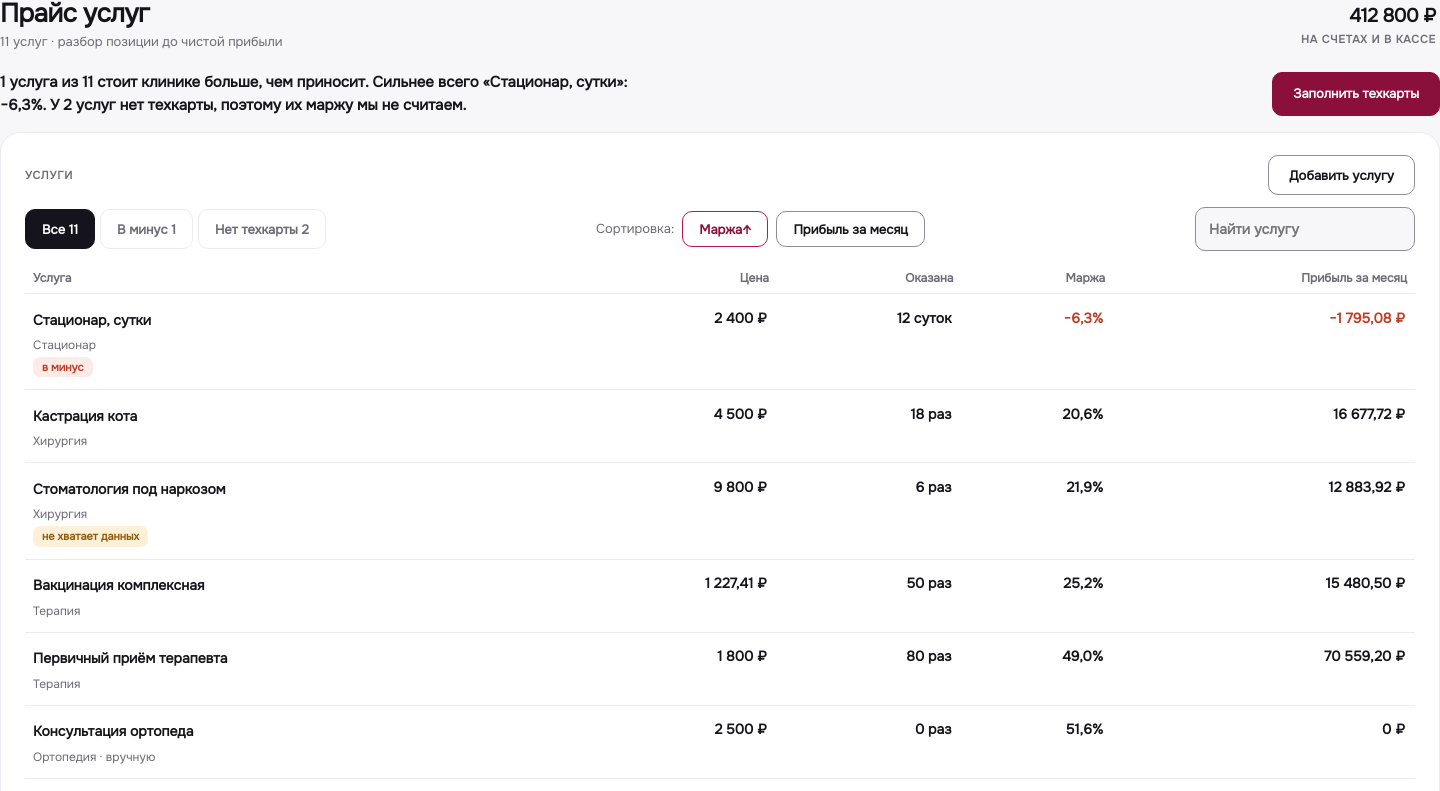
PricePage: a manual service › refuses a duplicate name
Click the button with test id "price-add". click: (1342, 175)
box: [1268,155,1415,195]
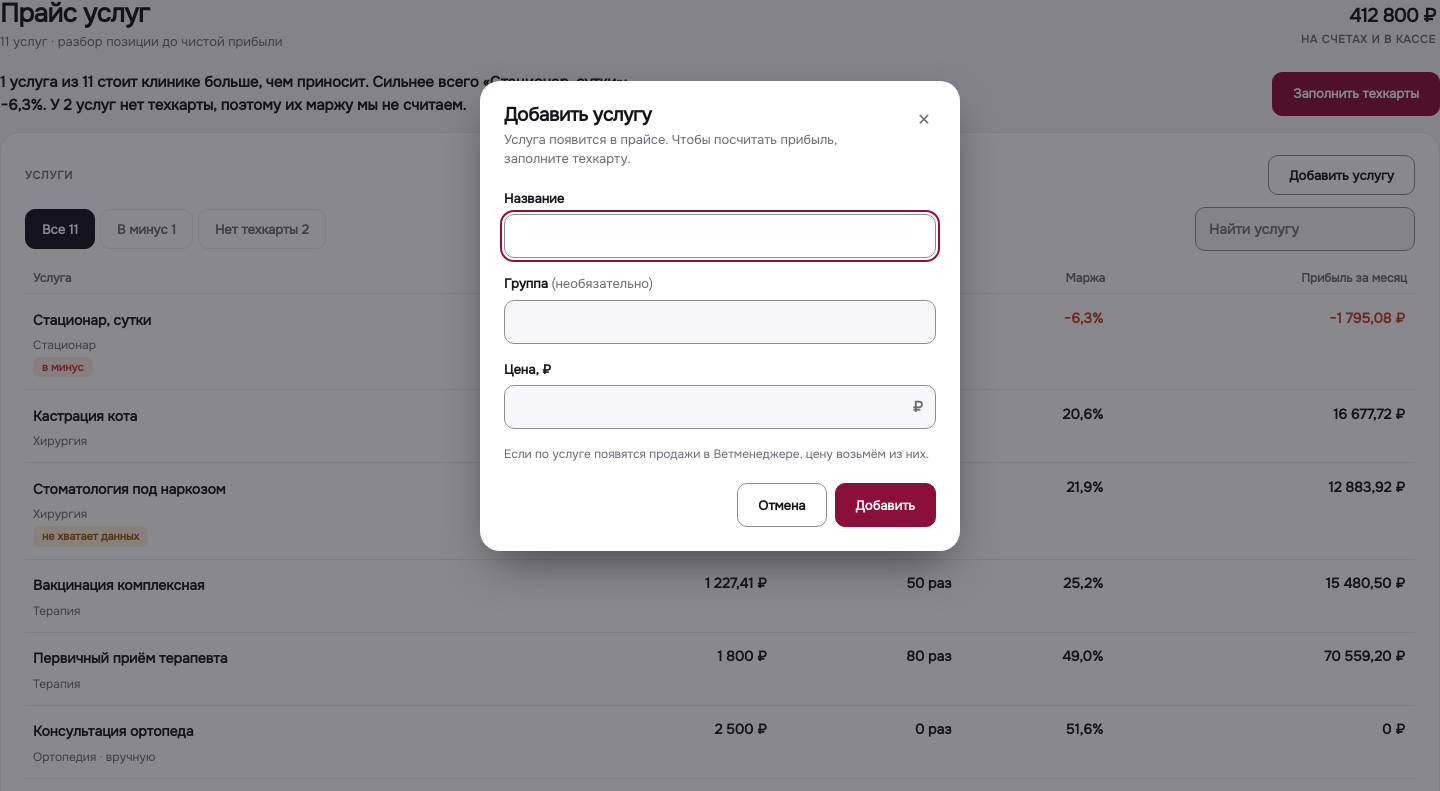
Type "кастрация  КОТА" into the field with test id "price-service-field-name". click: (720, 236)
box: [504,214,936,258]
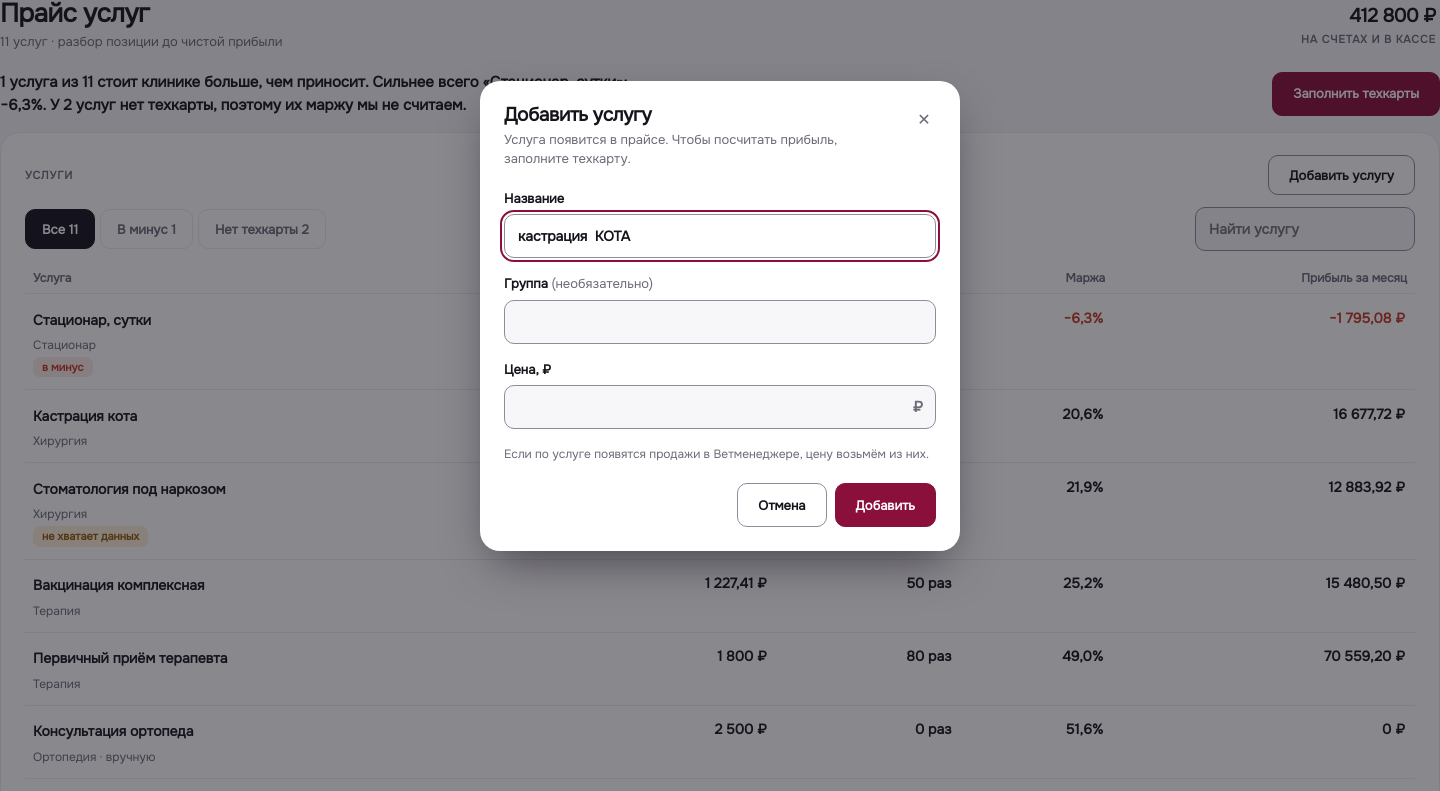
Type "100" into the field with test id "price-service-field-price". click: (720, 407)
box: [504,385,936,429]
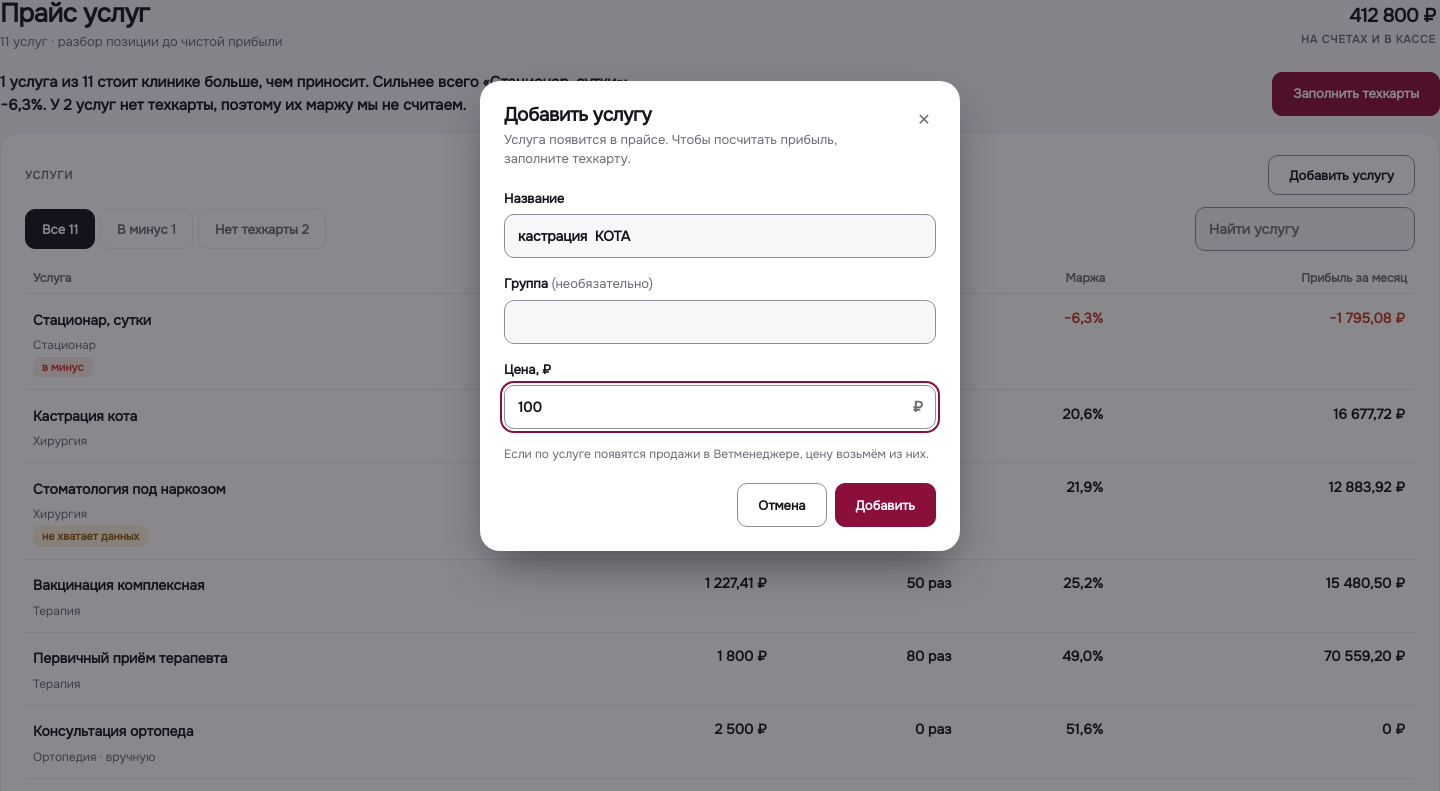
Click the button with test id "price-service-save". click: (885, 505)
box: [835,483,936,527]
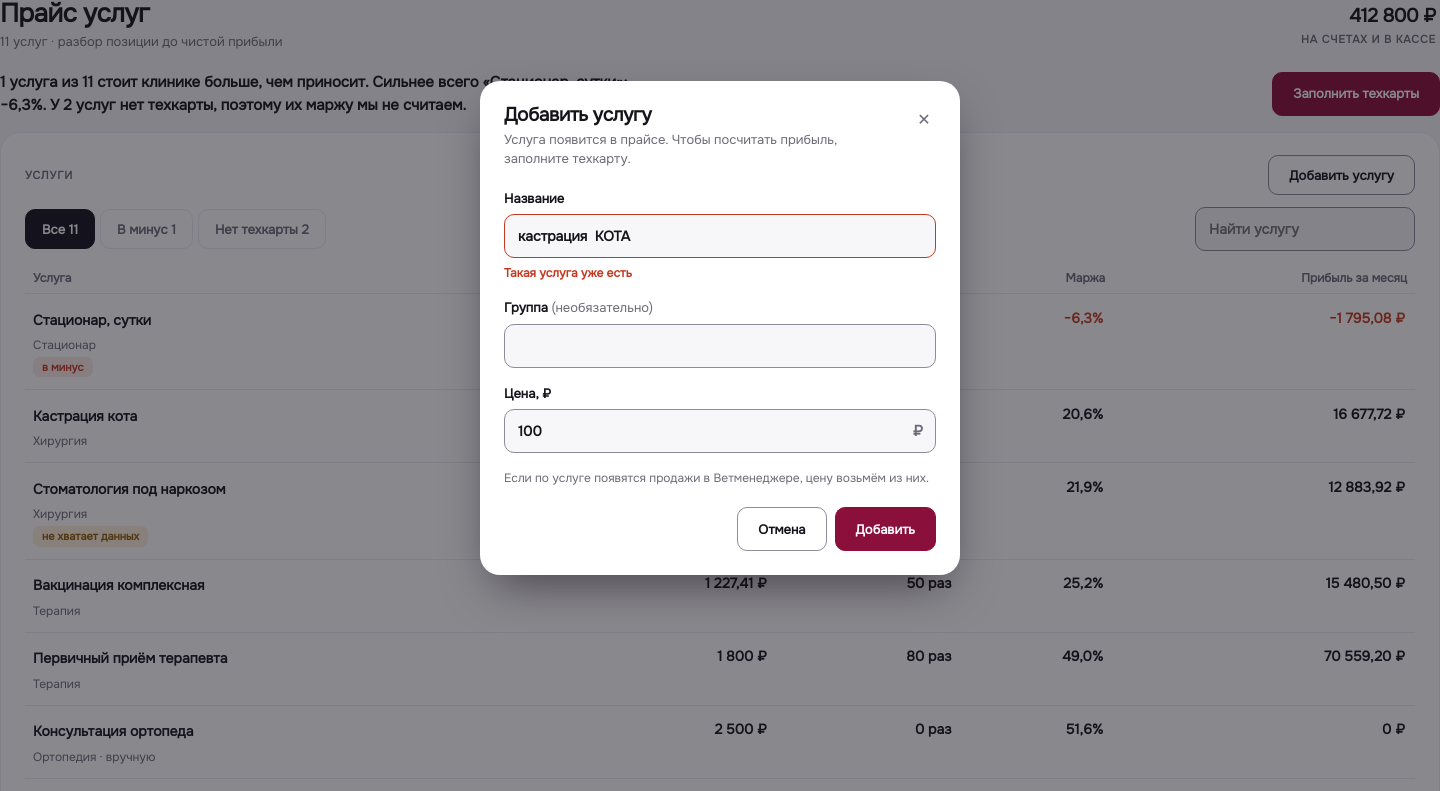
Expected: the text with test id "price-service-field-name-error" reads "Такая услуга уже есть", [504,265,632,281]
